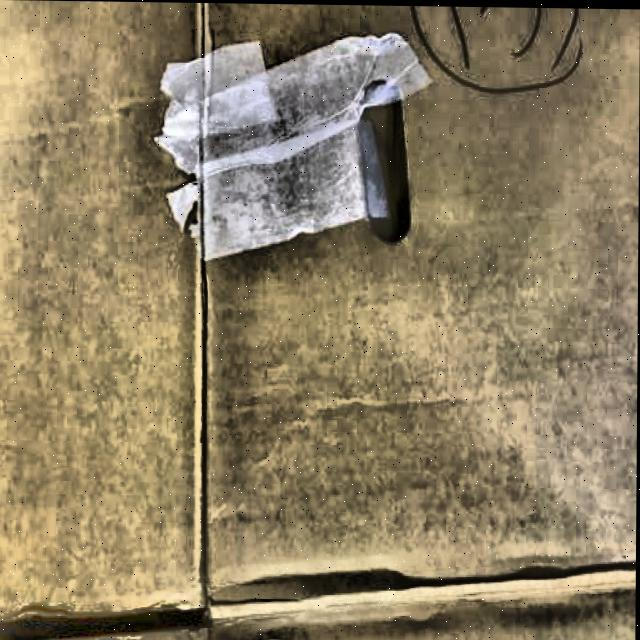cardboard: (153, 27, 431, 266)
